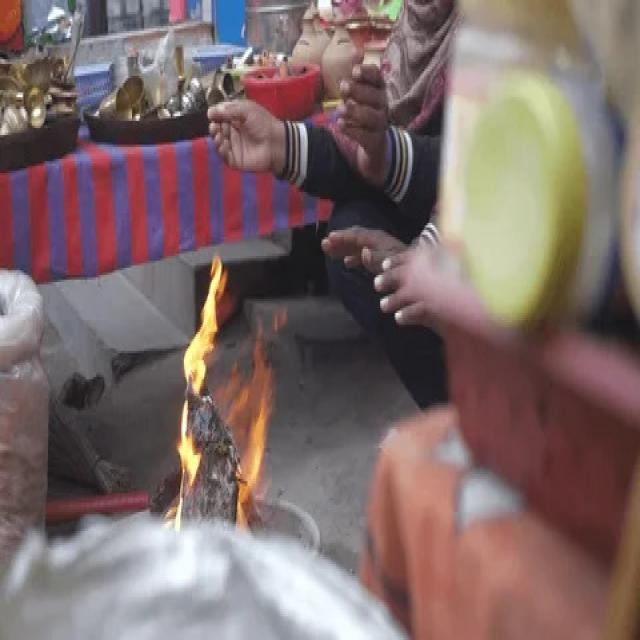fire: (161, 256, 273, 535)
